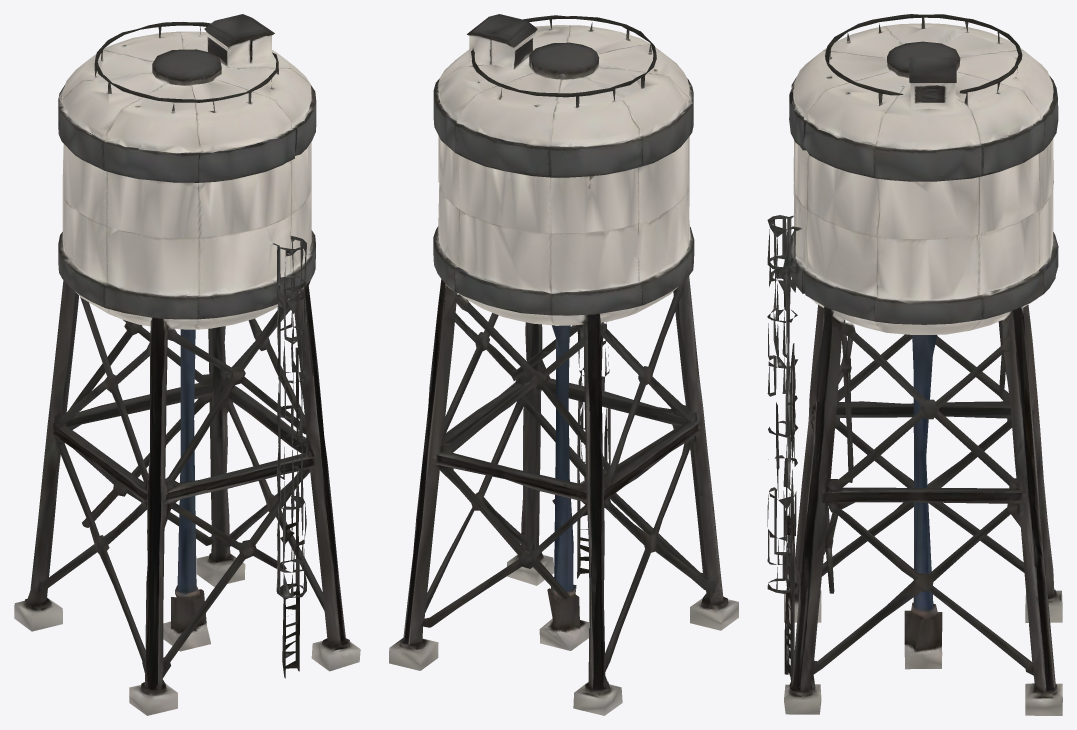
File: waterTower.glb
3 views of the same model, side by side, from view 1: azimuth 30°, elevation 25°; view 2: azimuth 150°, elevation 25°; view 3: azimuth 270°, elevation 25° (orthographic). The views are drawn at different scales.
Visible parts, largest first — view 1: waterTower; view 2: waterTower; view 3: waterTower.
Boxes of the visible parts, x1,y1,x2,y2 form: waterTower: [14, 14, 360, 715]; waterTower: [389, 14, 738, 715]; waterTower: [767, 14, 1062, 715].
Size of the model in its own units: 9.36 by 24 by 10.27.
Materials: 1 (1 with a texture image).
